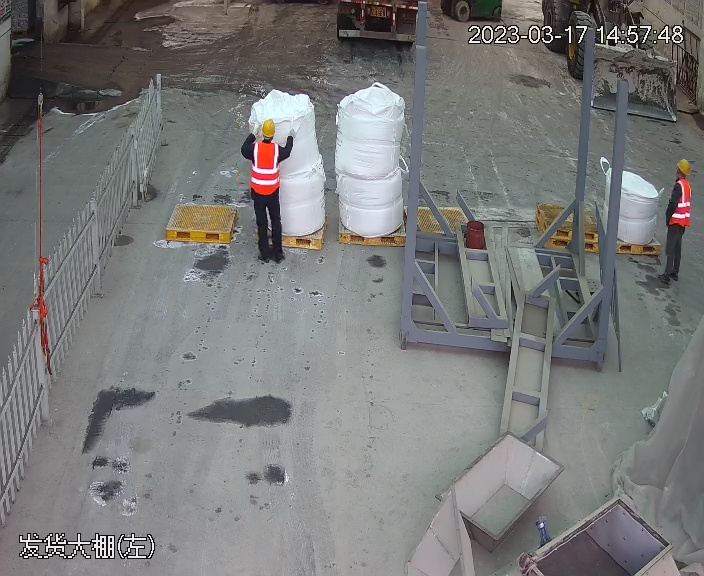head: (244, 118, 283, 160), (668, 158, 692, 197)
helmet: (259, 118, 277, 138), (676, 158, 691, 175)
people: (239, 114, 291, 262), (655, 157, 696, 285)
